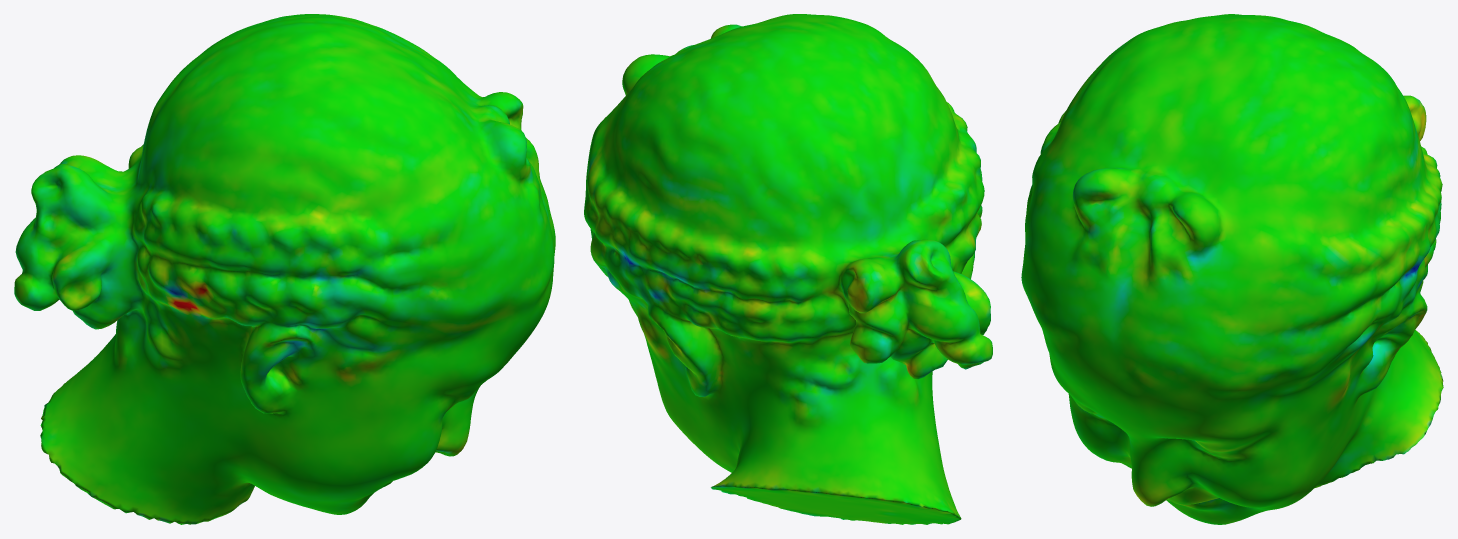
File: all=0.000416-hole=0.002546-mgcn-wo-refine.obj
3 renders of one model, left to right at view 1: azimuth 30°, elevation 25°; view 2: azimuth 150°, elevation 25°; view 3: azimuth 270°, elevation 25°, orthographic. The views are drawn at different scales.
Bounding box in the file's own units: 87.27 × 86.08 × 67.48.
